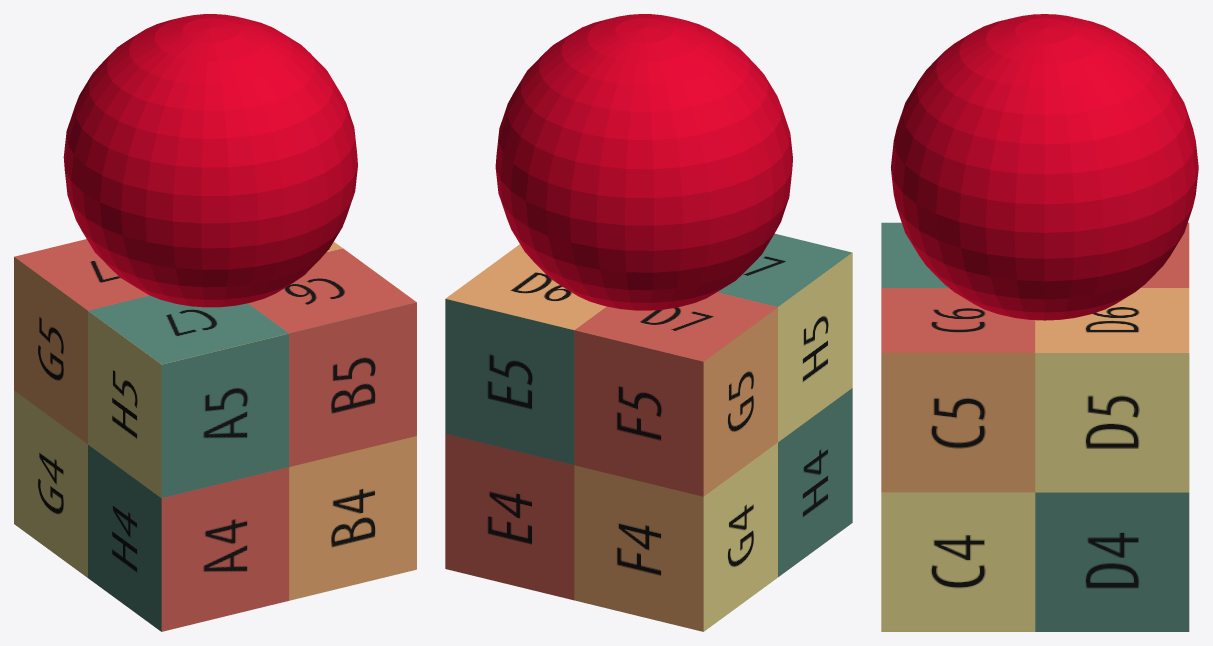
Rendered from testModel.glb.
3 views of the same model, side by side, from view 1: azimuth 30°, elevation 25°; view 2: azimuth 150°, elevation 25°; view 3: azimuth 270°, elevation 25° (orthographic). The views are drawn at different scales.
Parts seen in each view (by area): view 1: Cube, Sphere; view 2: Cube, Sphere; view 3: Cube, Sphere.
Part boxes in pixels (x1,y1,x2,y2): Cube: (14, 239, 416, 631); Sphere: (63, 14, 357, 307); Cube: (445, 233, 852, 631); Sphere: (495, 14, 792, 310); Cube: (881, 222, 1189, 631); Sphere: (891, 14, 1198, 320).
Bounding box in the file's own units: 2 × 3.86 × 2.06.
2 materials, 1 textured.
